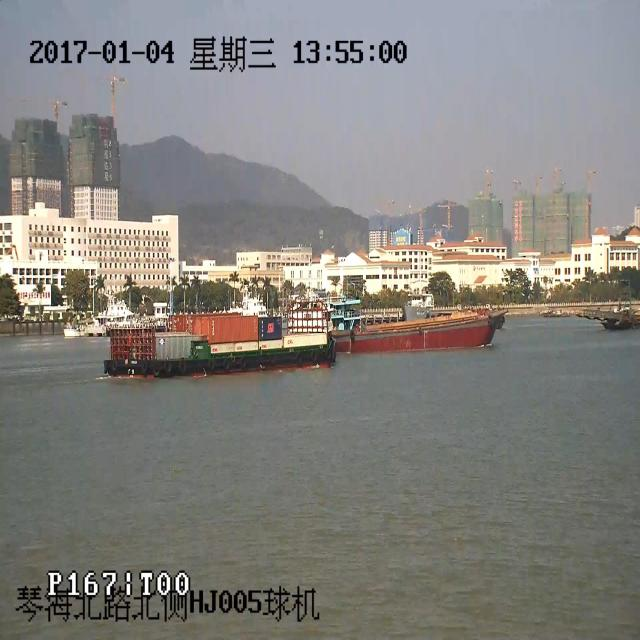cargoship: (109, 301, 347, 374), (349, 298, 496, 357)
